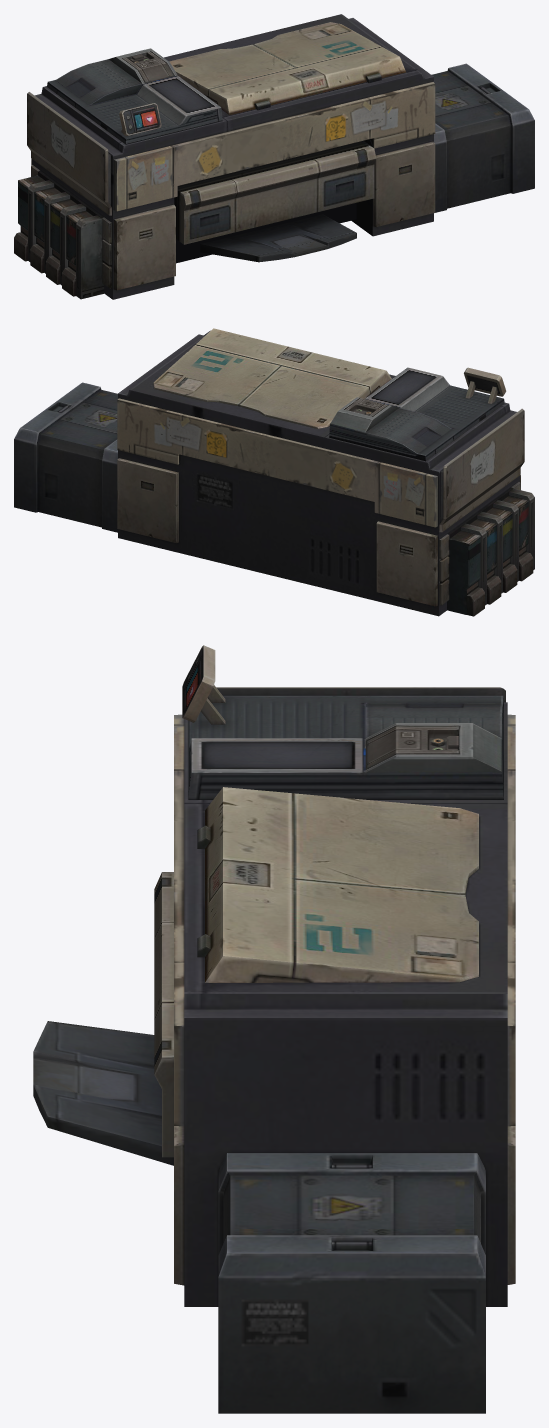
Rendered from mf_blueprintprinter002.FBX.
The picture shows the model from 3 angles, top to bottom: view 1: azimuth 30°, elevation 25°; view 2: azimuth 150°, elevation 25°; view 3: azimuth 270°, elevation 25°; orthographic projection. The views are drawn at different scales.
Parts seen in each view (by area): view 1: mf_blueprintprinter002; view 2: mf_blueprintprinter002; view 3: mf_blueprintprinter002.
Part boxes in pixels (box(x1,y1,x2,y2)): mf_blueprintprinter002: box(14, 14, 534, 299); mf_blueprintprinter002: box(14, 328, 534, 616); mf_blueprintprinter002: box(33, 645, 515, 1413).
Size of the model in its own units: 3.75 by 1.43 by 1.72.
